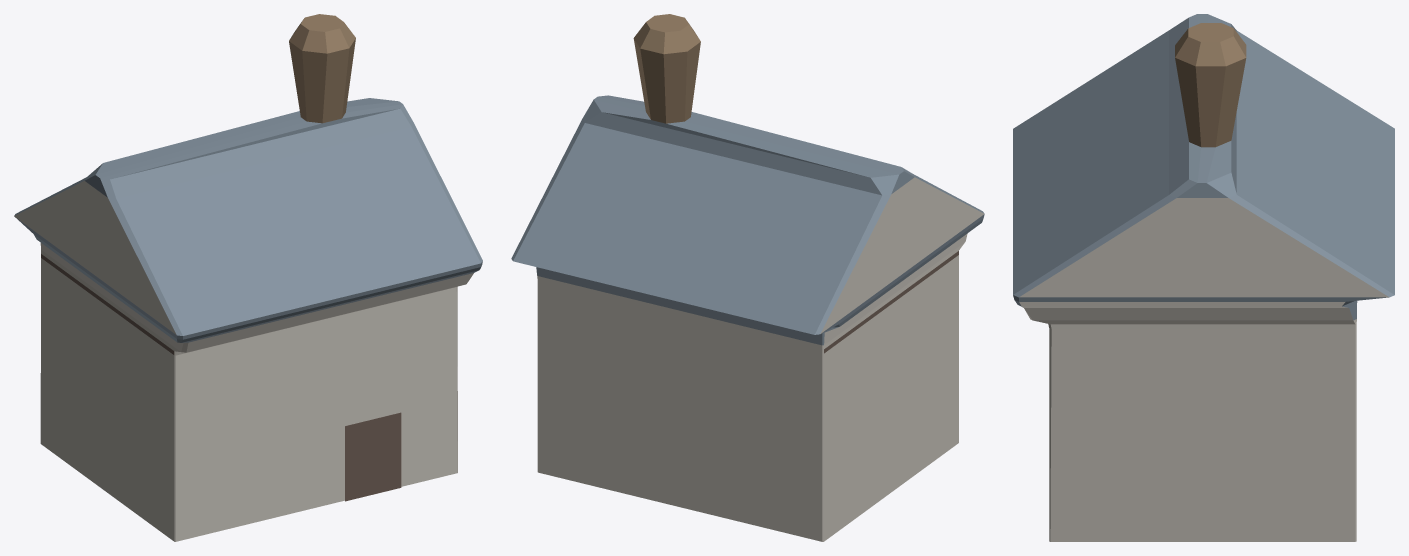
Rendered from loin.glb.
3 views of the same model, side by side, from view 1: azimuth 30°, elevation 25°; view 2: azimuth 150°, elevation 25°; view 3: azimuth 270°, elevation 25° (orthographic). The views are drawn at different scales.
Parts seen in each view (by area): view 1: loin; view 2: loin; view 3: loin.
Part boxes in pixels (x1=…): loin: x1=14, y1=14, x2=482, y2=541; loin: x1=511, y1=14, x2=984, y2=541; loin: x1=1013, y1=14, x2=1394, y2=541.
Bounding box in the file's own units: 0.7165 × 0.9253 × 0.677.
